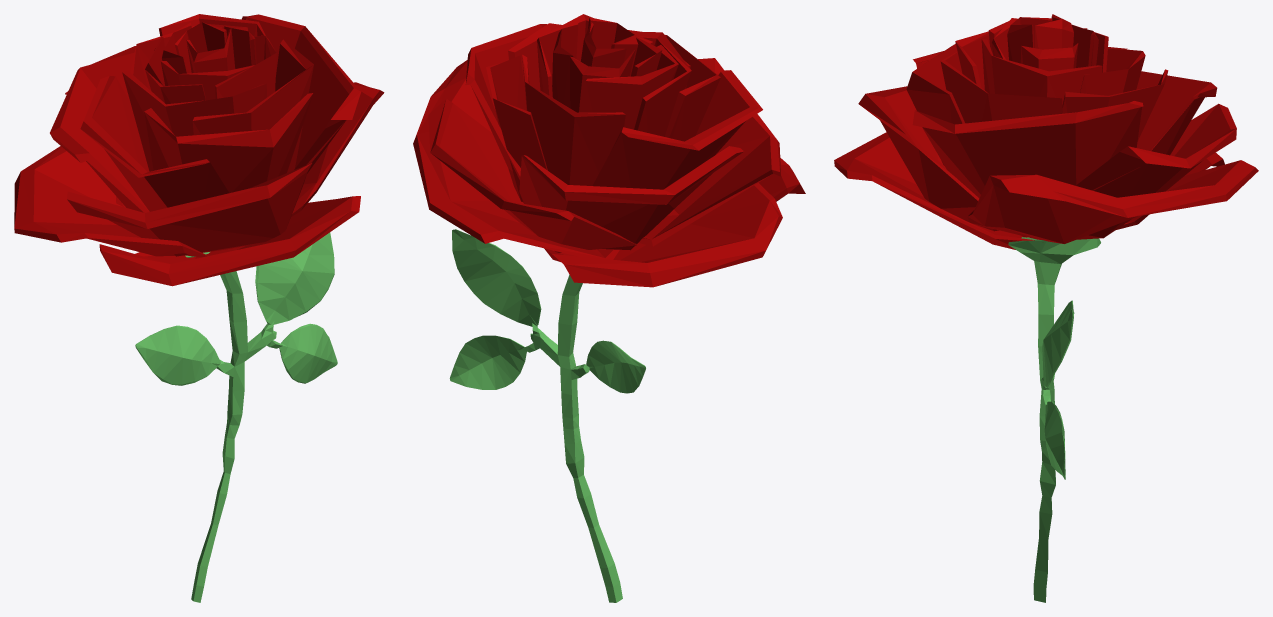
File: rose.glb
The picture shows the model from 3 angles, left to right: view 1: azimuth 30°, elevation 25°; view 2: azimuth 150°, elevation 25°; view 3: azimuth 270°, elevation 25°; orthographic projection. The views are drawn at different scales.
Visible parts, largest first — view 1: node-0; view 2: node-0; view 3: node-0.
Part boxes in pixels (bbox=[...]): node-0: bbox=[14, 14, 384, 602]; node-0: bbox=[413, 14, 805, 602]; node-0: bbox=[834, 14, 1258, 602].
Size of the model in its own units: 28.38 by 45.61 by 29.67.
